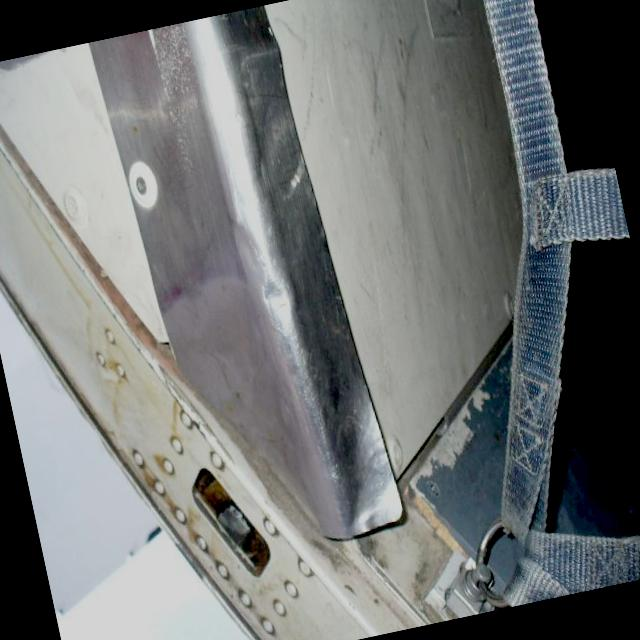dent: (321, 386, 409, 542), (248, 263, 312, 349)
